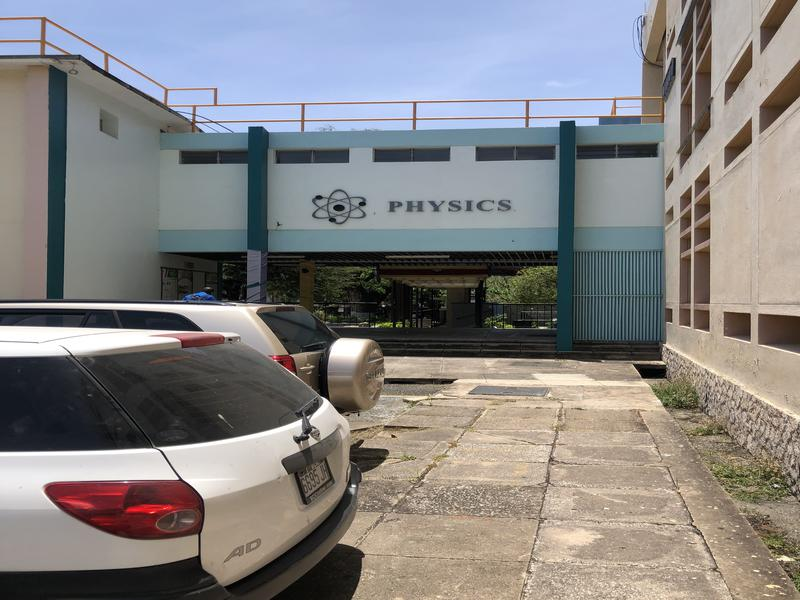18.0053657_-76.7491452_physicssign: (285, 174, 524, 222)
